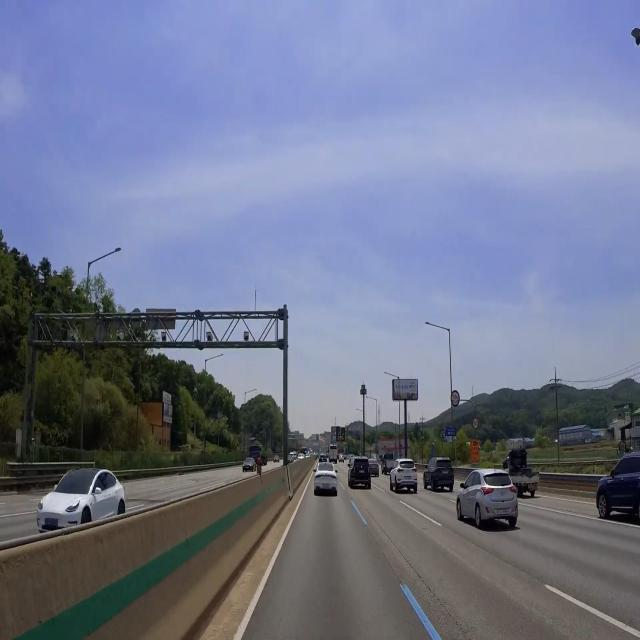car: (523, 482, 543, 499), (43, 517, 63, 532), (496, 507, 513, 521), (402, 472, 415, 488), (320, 482, 334, 495), (440, 469, 452, 479), (357, 469, 368, 476)
